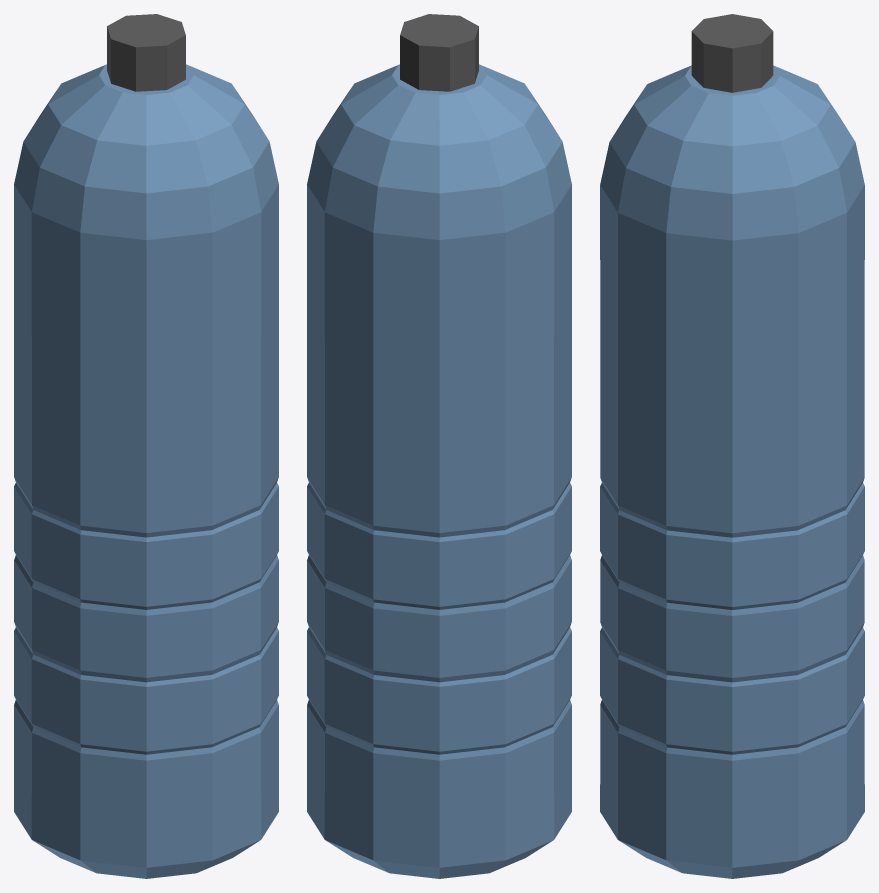
Rendered from WaterBottle_2.glb.
3 renders of one model, left to right at view 1: azimuth 30°, elevation 25°; view 2: azimuth 150°, elevation 25°; view 3: azimuth 270°, elevation 25°, orthographic.
Parts seen in each view (by area): view 1: WaterBottle_2; view 2: WaterBottle_2; view 3: WaterBottle_2.
Boxes of the visible parts, bbox=[...] form: WaterBottle_2: bbox=[14, 14, 278, 878]; WaterBottle_2: bbox=[307, 14, 571, 878]; WaterBottle_2: bbox=[600, 14, 864, 878].
Size of the model in its own units: 0.5511 by 1.85 by 0.5511.
